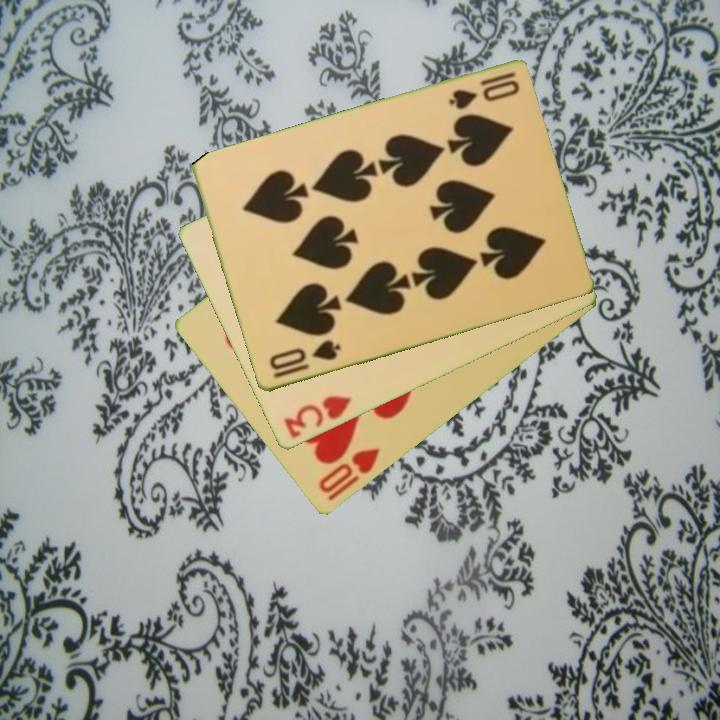10h: (315, 445, 383, 505)
10s: (265, 336, 344, 381), (444, 69, 522, 113)
3h: (280, 392, 354, 442)
